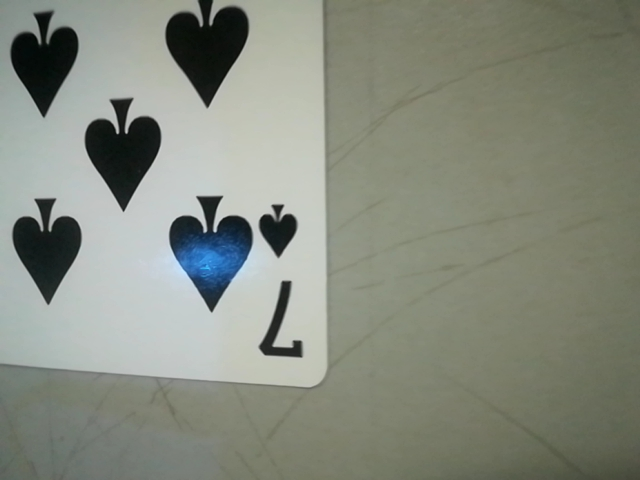ht 7: (242, 185, 322, 381)
